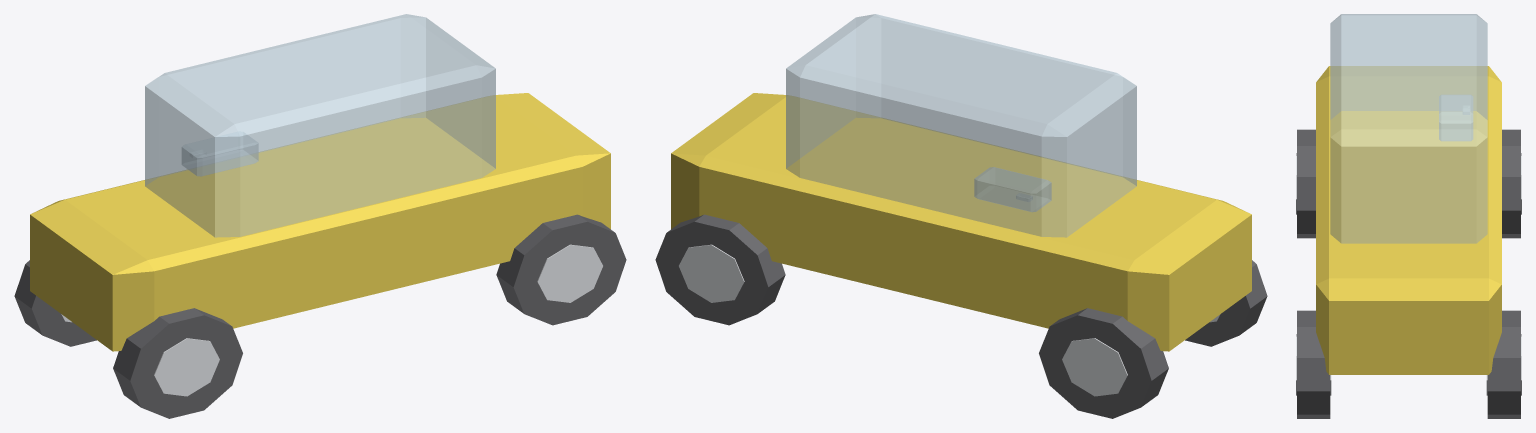
File: b07_telescopic_construction_handler.glb
The picture shows the model from 3 angles, left to right: view 1: azimuth 30°, elevation 25°; view 2: azimuth 150°, elevation 25°; view 3: azimuth 270°, elevation 25°; orthographic projection. The views are drawn at different scales.
Parts seen in each view (by area): view 1: b07_telescopic_construction_handler; view 2: b07_telescopic_construction_handler; view 3: b07_telescopic_construction_handler.
Boxes of the visible parts, box(x1,y1,x2,y2) form: b07_telescopic_construction_handler: box(14, 14, 626, 418); b07_telescopic_construction_handler: box(655, 14, 1267, 418); b07_telescopic_construction_handler: box(1296, 14, 1521, 418).
Bounding box in the file's own units: 6.22 × 3.06 × 2.53.
